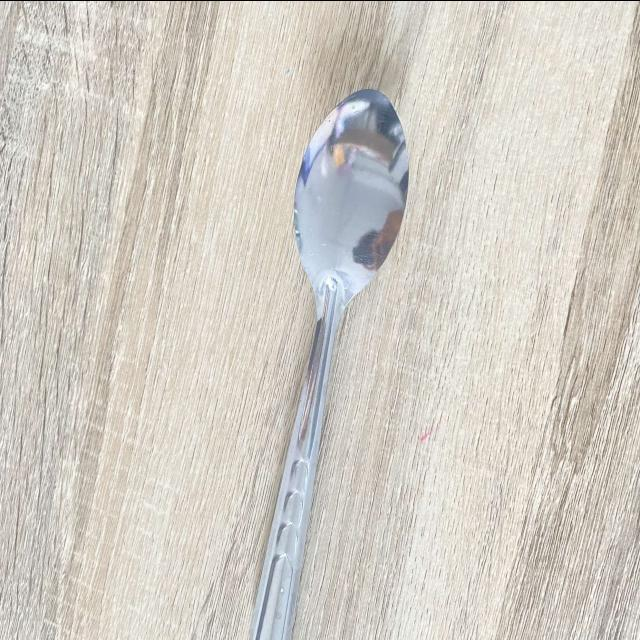spoon: (227, 73, 422, 640)
